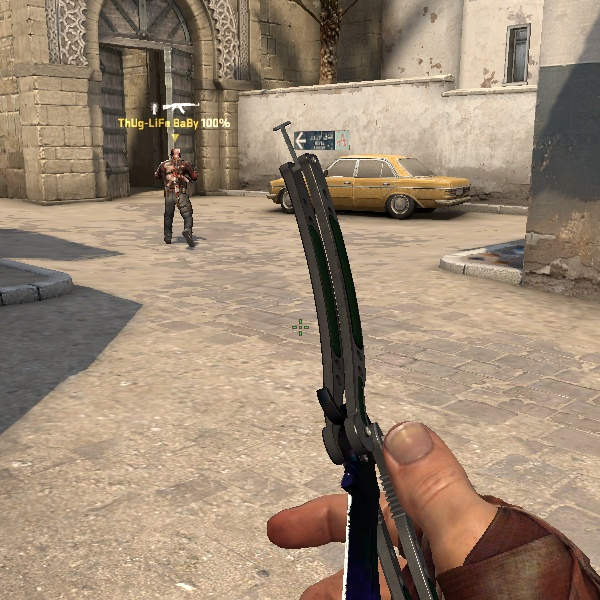t_body: (145, 144, 211, 248)
t_head: (167, 146, 185, 163)
